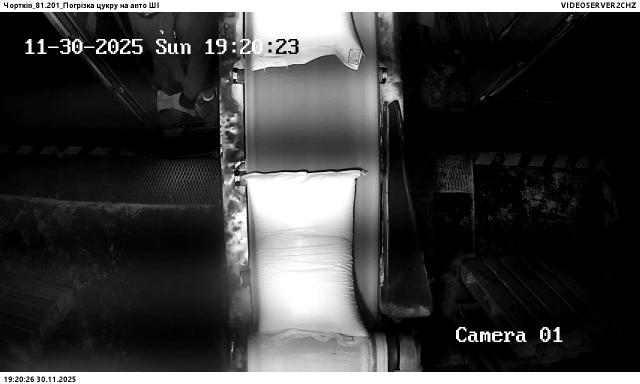bag: (242, 171, 371, 341), (251, 12, 363, 71)
